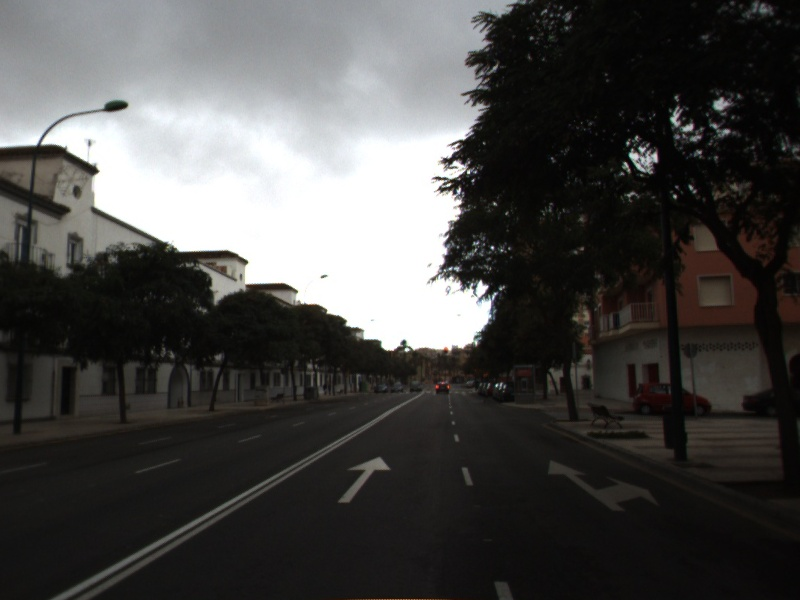STRAIGHT: (337, 455, 393, 504)
STRAIGHT_RIGHT: (546, 459, 662, 512)
